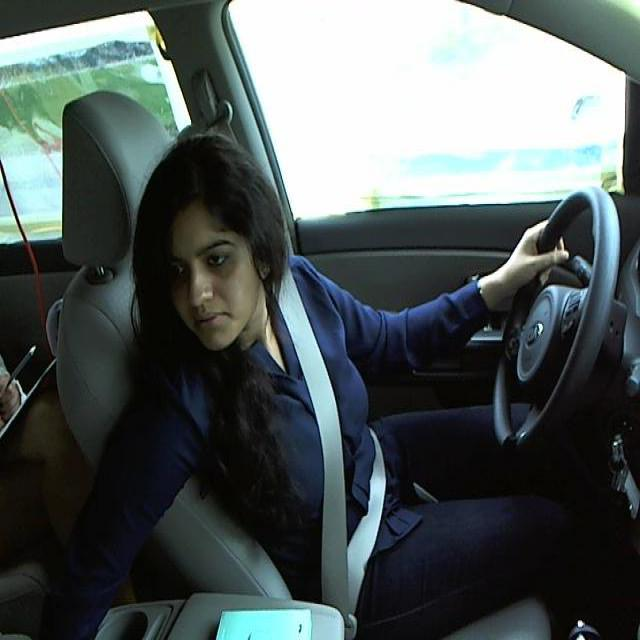seatbelt: (268, 318, 390, 582)
